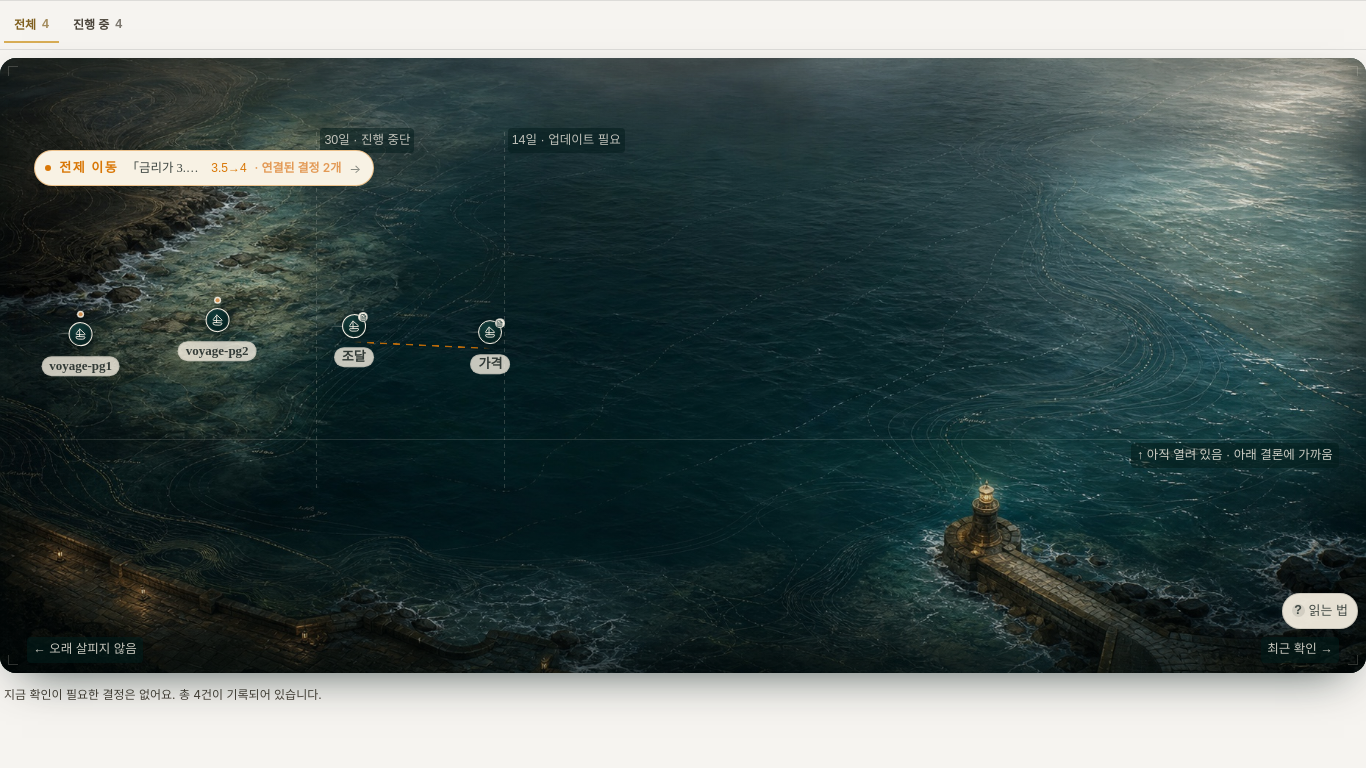
Test: one sea — receipt vessels and undersea currents › drift × leverage: decisions on a MOVED premise warn amber and the chip counts them
This screenshot has width=1366, height=768.
Click the button "voyage-pg1": (81, 349) [33,314,128,384]
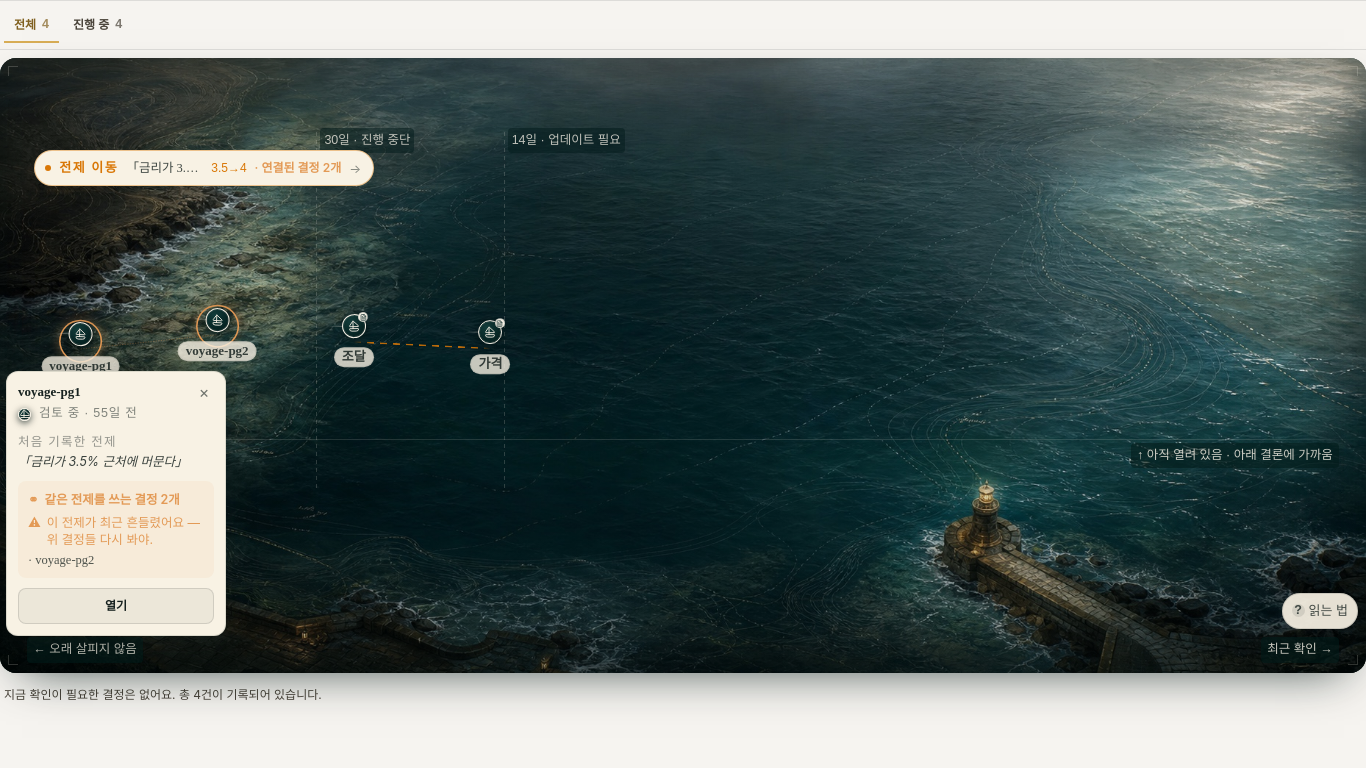
Result: the dialog shows "같은 전제를 쓰는 결정 2개" at [44,492,180,507]
Result: the dialog shows "이 전제가 최근 흔들렸어요" at [47,515,200,547]
